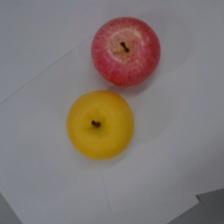red: (91, 16, 161, 87)
yellow: (67, 90, 135, 160)
